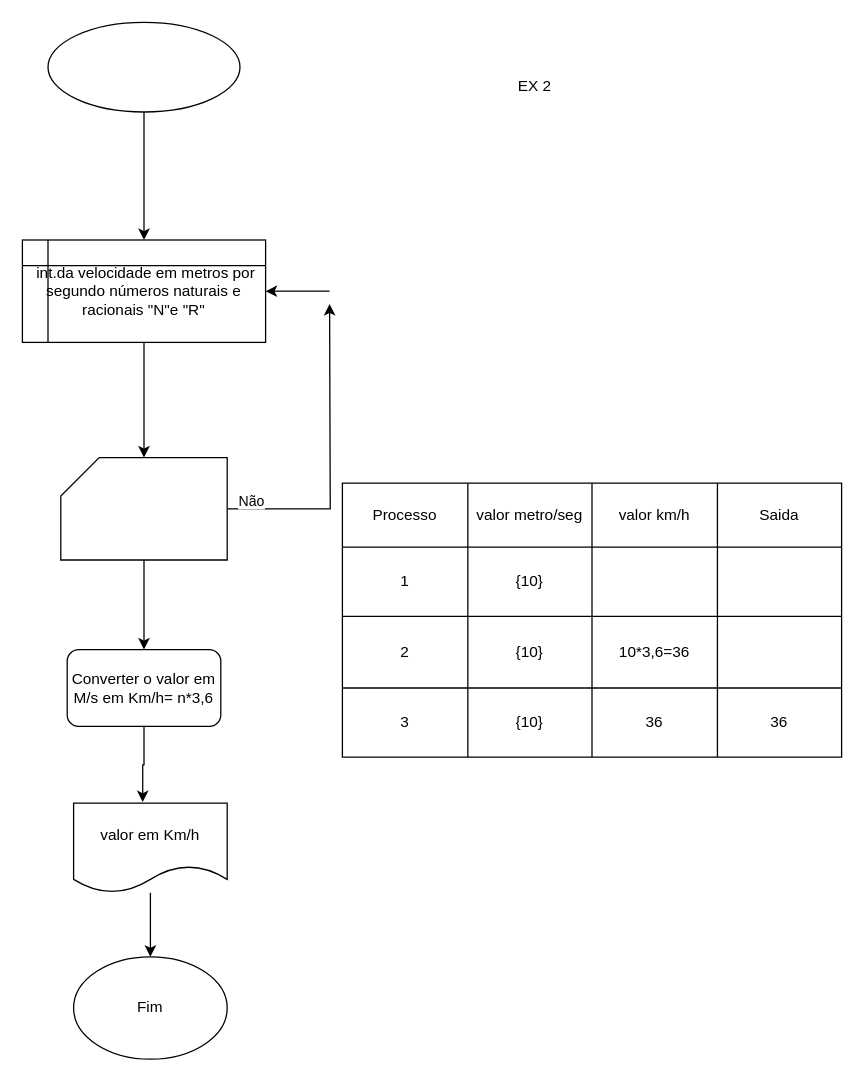
This 864x1082 diagram has some shape labels left out. The shapes that lost their labels are listed below. From the top down, each one's box as (x1, y1, x2, y2) in pixels, then its label:
(47, 21, 240, 112): Ínicio
(60, 456, 227, 560): introduzir o valor em m/s
